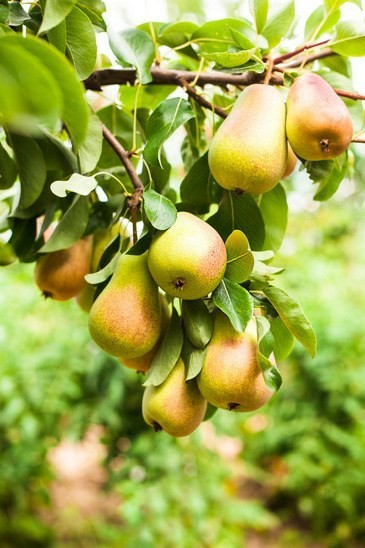pear: (210, 84, 296, 196), (85, 252, 166, 359), (198, 311, 278, 410), (150, 211, 229, 301), (285, 69, 355, 164), (141, 344, 208, 437), (34, 215, 95, 300)
